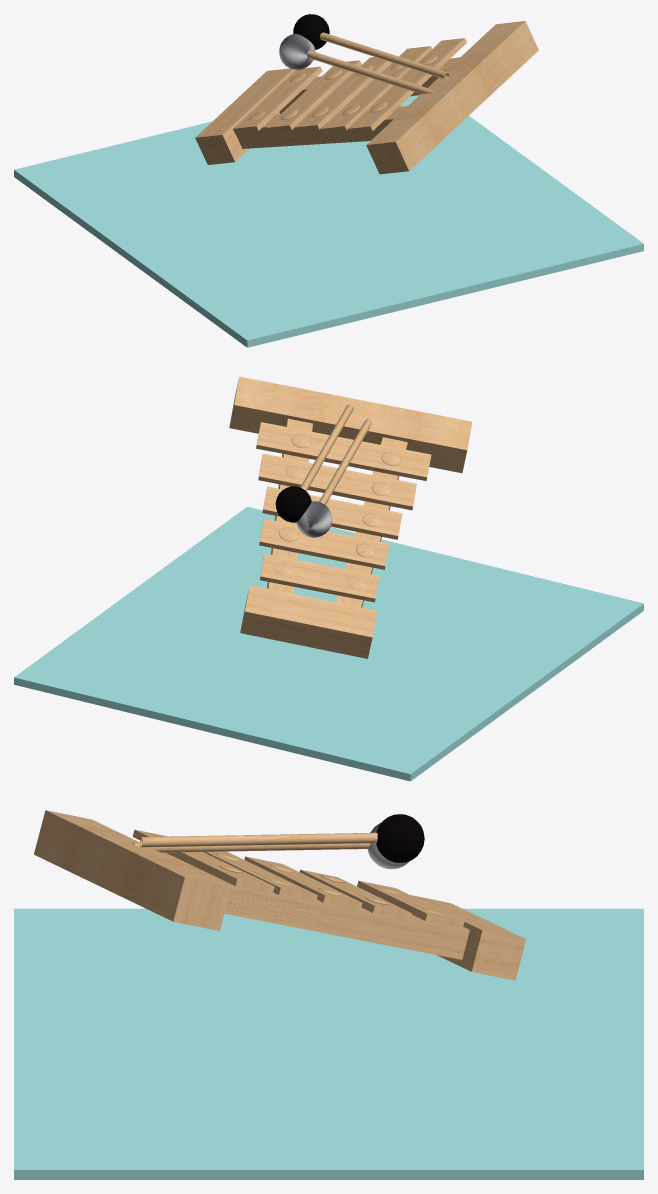
The model's file is xilofono.DAE.
The picture shows the model from 3 angles, top to bottom: view 1: azimuth 30°, elevation 25°; view 2: azimuth 150°, elevation 25°; view 3: azimuth 270°, elevation 25°; orthographic projection. The views are drawn at different scales.
Parts seen in each view (by area): view 1: Box011, Box010, Box001, Box003, Box005, Box006, Box007, Box009, Box008, Tube001, Tube002, GeoSphere012 (+1 smaller); view 2: Box011, Box010, Box001, Box005, Box006, Box008, Box009, Box007, Box003, GeoSphere011, GeoSphere012, Box004 (+2 smaller); view 3: Box011, Box010, Box004, Box001, Tube001, GeoSphere011, Box005, Box009, Box007, Tube002, Box008, Box006.
Part boxes in pixels (x1=…): Box011: x1=14, y1=95, x2=643, y2=347; Box010: x1=366, y1=21, x2=538, y2=174; Box001: x1=195, y1=68, x2=295, y2=164; Box003: x1=236, y1=106, x2=407, y2=148; Box005: x1=347, y1=38, x2=466, y2=133; Box006: x1=321, y1=46, x2=431, y2=133; Box007: x1=294, y1=57, x2=391, y2=132; Box009: x1=233, y1=66, x2=322, y2=133; Box008: x1=266, y1=60, x2=361, y2=132; Tube001: x1=319, y1=32, x2=449, y2=79; Tube002: x1=307, y1=50, x2=434, y2=93; GeoSphere012: x1=279, y1=33, x2=315, y2=69; Box011: x1=14, y1=506, x2=643, y2=781; Box010: x1=229, y1=376, x2=472, y2=473; Box001: x1=240, y1=585, x2=377, y2=658; Box005: x1=256, y1=422, x2=431, y2=480; Box006: x1=258, y1=453, x2=416, y2=510; Box008: x1=259, y1=519, x2=389, y2=569; Box009: x1=260, y1=553, x2=379, y2=602; Box007: x1=262, y1=486, x2=402, y2=539; Box003: x1=336, y1=437, x2=407, y2=607; GeoSphere011: x1=275, y1=486, x2=311, y2=522; GeoSphere012: x1=296, y1=501, x2=332, y2=537; Box004: x1=267, y1=418, x2=312, y2=593; Box011: x1=14, y1=908, x2=643, y2=1179; Box010: x1=34, y1=810, x2=231, y2=930; Box004: x1=206, y1=874, x2=469, y2=959; Box001: x1=410, y1=895, x2=526, y2=980; Tube001: x1=140, y1=832, x2=377, y2=847; GeoSphere011: x1=376, y1=814, x2=424, y2=862; Box005: x1=132, y1=829, x2=274, y2=893; Box009: x1=357, y1=880, x2=464, y2=928; Box007: x1=244, y1=856, x2=362, y2=909; Tube002: x1=132, y1=842, x2=370, y2=852; Box008: x1=299, y1=869, x2=412, y2=920; Box006: x1=203, y1=851, x2=317, y2=902.
Bounding box in the file's own units: 131 × 134 × 62.34.
Materials: 4 (3 with a texture image).
